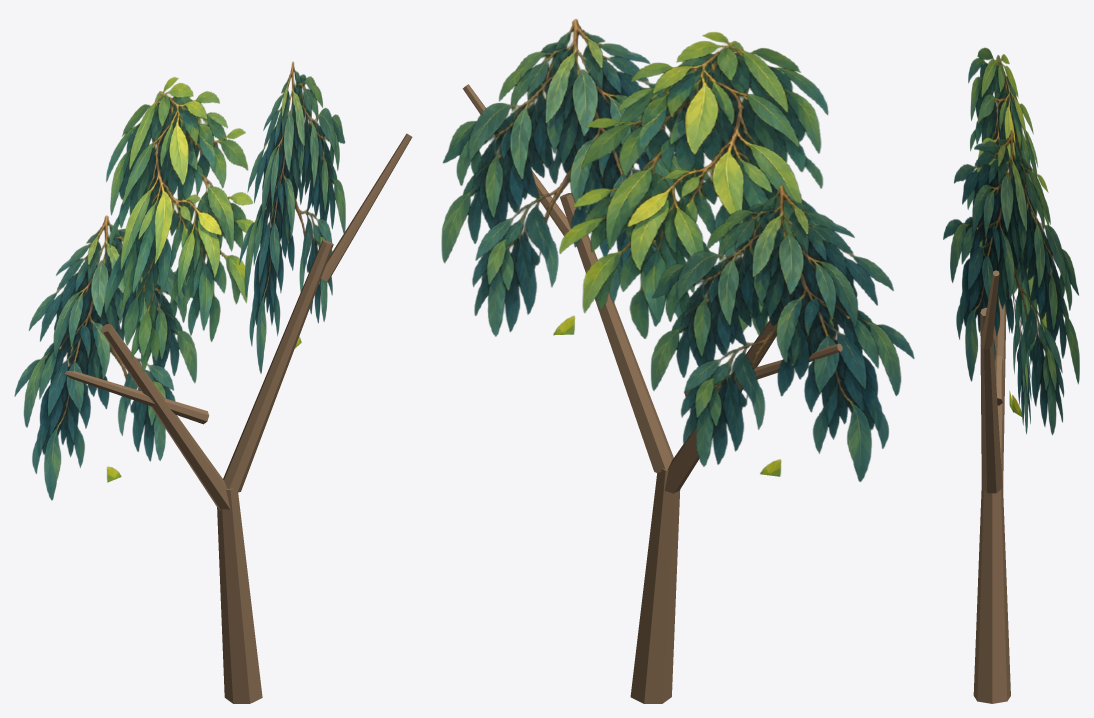
Rendered from TREE_EUCALYPTUS_COASTAL_002@2.0.0_LOD_MAP.glb.
3 renders of one model, left to right at view 1: azimuth 30°, elevation 25°; view 2: azimuth 150°, elevation 25°; view 3: azimuth 270°, elevation 25°, orthographic. The views are drawn at different scales.
Parts seen in each view (by area): view 1: GG_TREE_EUCALYPTUS_COASTAL_002_CARD_01, GG_TREE_EUCALYPTUS_COASTAL_002_CARD_00, GG_TREE_EUCALYPTUS_COASTAL_002_CARD_02, GG_TREE_EUCALYPTUS_COASTAL_002_LOCKED_STRUCTURE_00, GG_TREE_EUCALYPTUS_COASTAL_002_LOCKED_STRUCTURE_02, GG_TREE_EUCALYPTUS_COASTAL_002_LOCKED_STRUCTURE_01, GG_TREE_EUCALYPTUS_COASTAL_002_LOCKED_STRUCTURE_03, GG_TREE_EUCALYPTUS_COASTAL_002_LOCKED_STRUCTURE_04; view 2: GG_TREE_EUCALYPTUS_COASTAL_002_CARD_00, GG_TREE_EUCALYPTUS_COASTAL_002_CARD_01, GG_TREE_EUCALYPTUS_COASTAL_002_CARD_02, GG_TREE_EUCALYPTUS_COASTAL_002_LOCKED_STRUCTURE_00, GG_TREE_EUCALYPTUS_COASTAL_002_LOCKED_STRUCTURE_02, GG_TREE_EUCALYPTUS_COASTAL_002_LOCKED_STRUCTURE_01, GG_TREE_EUCALYPTUS_COASTAL_002_LOCKED_STRUCTURE_03; view 3: GG_TREE_EUCALYPTUS_COASTAL_002_CARD_02, GG_TREE_EUCALYPTUS_COASTAL_002_LOCKED_STRUCTURE_00, GG_TREE_EUCALYPTUS_COASTAL_002_CARD_01, GG_TREE_EUCALYPTUS_COASTAL_002_LOCKED_STRUCTURE_02, GG_TREE_EUCALYPTUS_COASTAL_002_CARD_00, GG_TREE_EUCALYPTUS_COASTAL_002_LOCKED_STRUCTURE_01, GG_TREE_EUCALYPTUS_COASTAL_002_LOCKED_STRUCTURE_03, GG_TREE_EUCALYPTUS_COASTAL_002_LOCKED_STRUCTURE_04.
Boxes of the visible parts, left/top/right/bottom form: GG_TREE_EUCALYPTUS_COASTAL_002_CARD_01: left=104, top=77, right=253, bottom=372; GG_TREE_EUCALYPTUS_COASTAL_002_CARD_00: left=14, top=215, right=196, bottom=500; GG_TREE_EUCALYPTUS_COASTAL_002_CARD_02: left=239, top=61, right=345, bottom=373; GG_TREE_EUCALYPTUS_COASTAL_002_LOCKED_STRUCTURE_00: left=217, top=488, right=262, bottom=703; GG_TREE_EUCALYPTUS_COASTAL_002_LOCKED_STRUCTURE_02: left=223, top=240, right=333, bottom=492; GG_TREE_EUCALYPTUS_COASTAL_002_LOCKED_STRUCTURE_01: left=101, top=323, right=230, bottom=510; GG_TREE_EUCALYPTUS_COASTAL_002_LOCKED_STRUCTURE_03: left=321, top=133, right=412, bottom=282; GG_TREE_EUCALYPTUS_COASTAL_002_LOCKED_STRUCTURE_04: left=65, top=371, right=209, bottom=424; GG_TREE_EUCALYPTUS_COASTAL_002_CARD_00: left=651, top=185, right=914, bottom=481; GG_TREE_EUCALYPTUS_COASTAL_002_CARD_01: left=559, top=32, right=828, bottom=338; GG_TREE_EUCALYPTUS_COASTAL_002_CARD_02: left=441, top=19, right=709, bottom=336; GG_TREE_EUCALYPTUS_COASTAL_002_LOCKED_STRUCTURE_00: left=630, top=468, right=680, bottom=703; GG_TREE_EUCALYPTUS_COASTAL_002_LOCKED_STRUCTURE_02: left=560, top=192, right=673, bottom=472; GG_TREE_EUCALYPTUS_COASTAL_002_LOCKED_STRUCTURE_01: left=664, top=320, right=776, bottom=493; GG_TREE_EUCALYPTUS_COASTAL_002_LOCKED_STRUCTURE_03: left=462, top=84, right=570, bottom=236; GG_TREE_EUCALYPTUS_COASTAL_002_CARD_02: left=943, top=130, right=1079, bottom=435; GG_TREE_EUCALYPTUS_COASTAL_002_LOCKED_STRUCTURE_00: left=973, top=480, right=1010, bottom=703; GG_TREE_EUCALYPTUS_COASTAL_002_CARD_01: left=967, top=47, right=1049, bottom=356; GG_TREE_EUCALYPTUS_COASTAL_002_LOCKED_STRUCTURE_02: left=980, top=307, right=1002, bottom=493; GG_TREE_EUCALYPTUS_COASTAL_002_CARD_00: left=1007, top=168, right=1037, bottom=433; GG_TREE_EUCALYPTUS_COASTAL_002_LOCKED_STRUCTURE_01: left=993, top=297, right=1006, bottom=489; GG_TREE_EUCALYPTUS_COASTAL_002_LOCKED_STRUCTURE_03: left=980, top=270, right=999, bottom=349; GG_TREE_EUCALYPTUS_COASTAL_002_LOCKED_STRUCTURE_04: left=995, top=355, right=1002, bottom=405.
Size of the model in its own units: 26.39 by 39.19 by 7.94.
2 materials, 1 textured.
